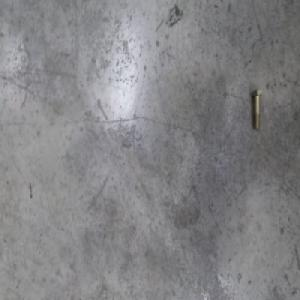Bolt: (252, 89, 263, 131)
